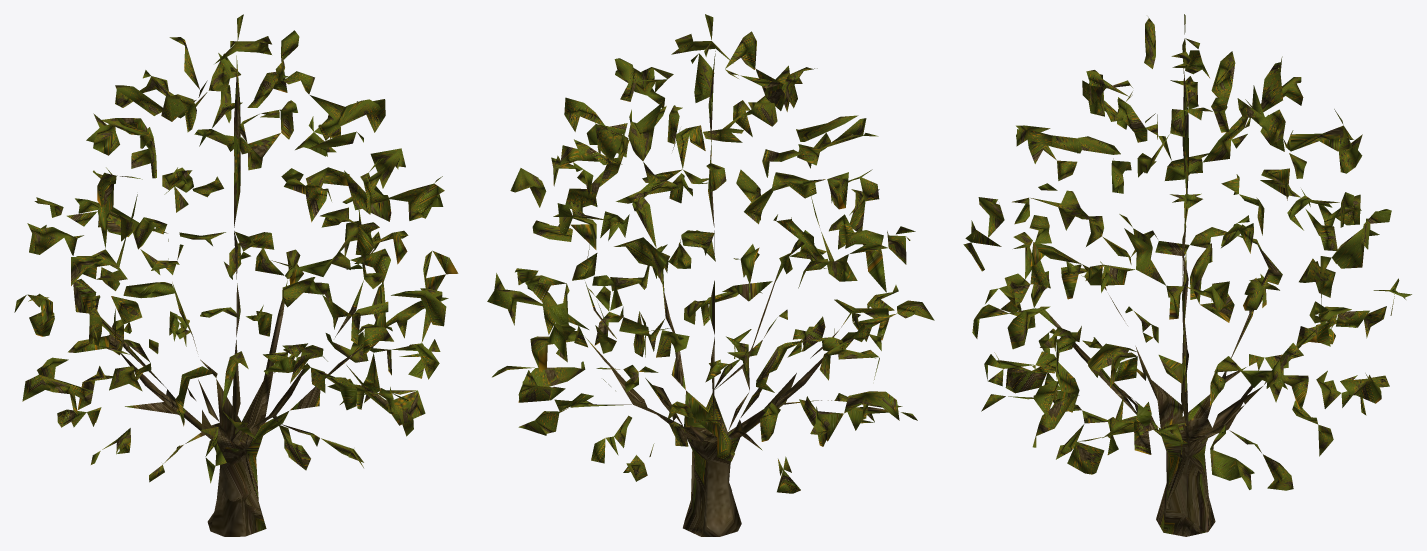
File: apple-lo.glb
The picture shows the model from 3 angles, left to right: view 1: azimuth 30°, elevation 25°; view 2: azimuth 150°, elevation 25°; view 3: azimuth 270°, elevation 25°; orthographic projection.
Size of the model in its own units: 4.08 by 4.97 by 3.95.
Materials: 1 (1 with a texture image).
